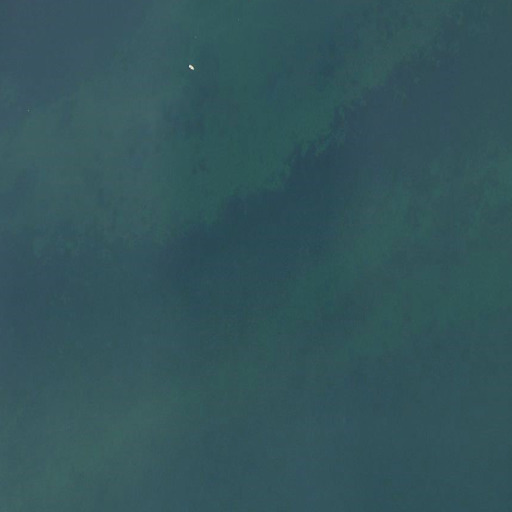ship: (186, 63, 194, 73)
